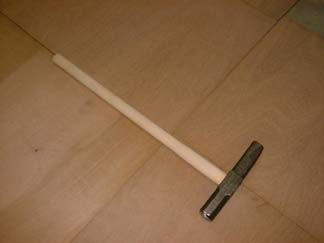hammer: (48, 53, 264, 221)
